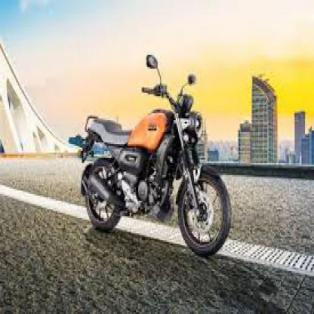Motocicleta: (72, 51, 234, 261)
